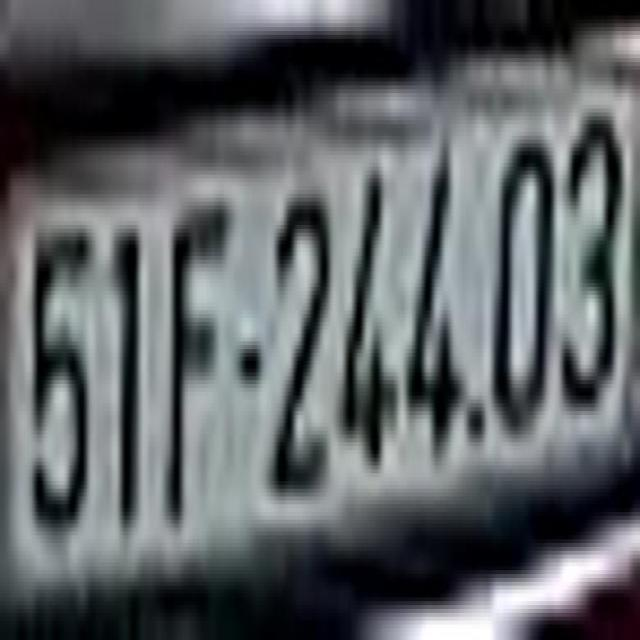0: (490, 93, 554, 454)
1: (109, 209, 147, 543)
2: (272, 166, 334, 496)
3: (566, 96, 621, 400)
4: (408, 132, 458, 466), (342, 144, 392, 478)
5: (32, 194, 93, 532)
F: (164, 190, 231, 535)
